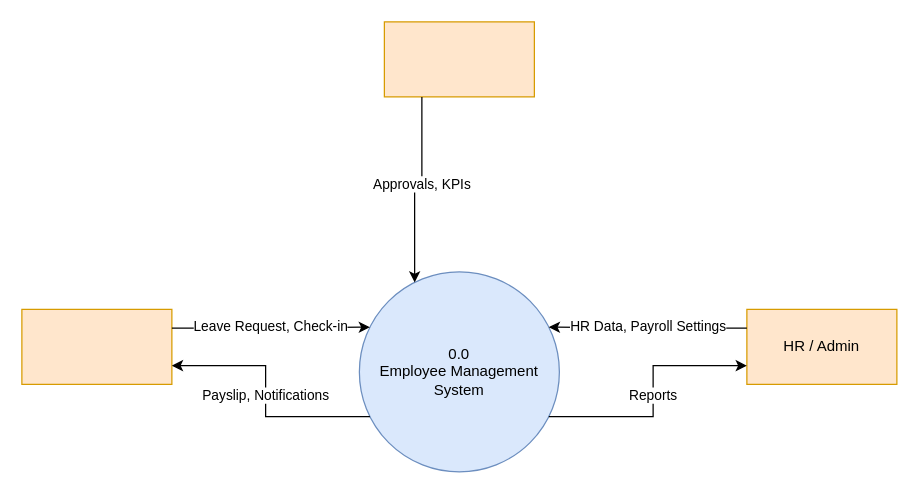
Some shapes in this 919 by 494 pixel diagram are drawn without their labels. The centre of each missing label's shape, as x and y in pixels:
"Employee" belongs at (x=96, y=346).
"Manager" belongs at (x=458, y=59).
